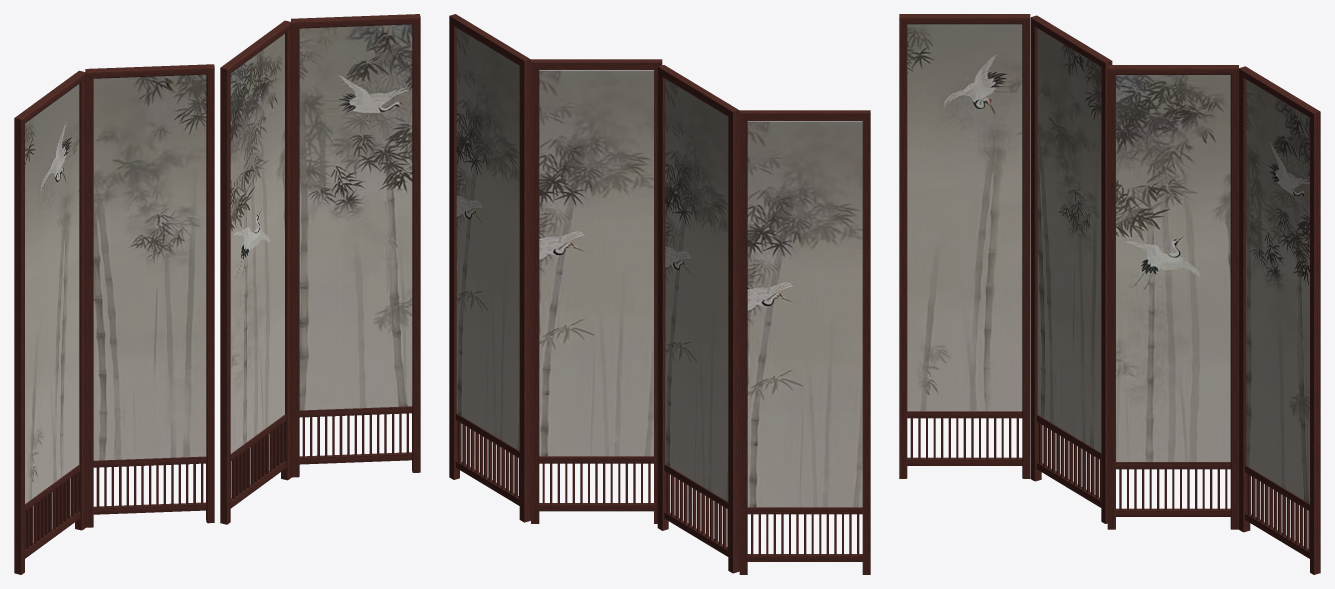
3 views of the same model, side by side, from view 1: azimuth 30°, elevation 25°; view 2: azimuth 150°, elevation 25°; view 3: azimuth 330°, elevation 25° (orthographic).
Visible parts, largest first — view 1: SY-屏风; view 2: SY-屏风; view 3: SY-屏风.
Boxes of the visible parts, x1,y1,x2,y2 form: SY-屏风: (14,14,420,574); SY-屏风: (449,14,870,574); SY-屏风: (899,14,1320,574).
Size of the model in its own units: 1.95 by 0.2964 by 2.07.
